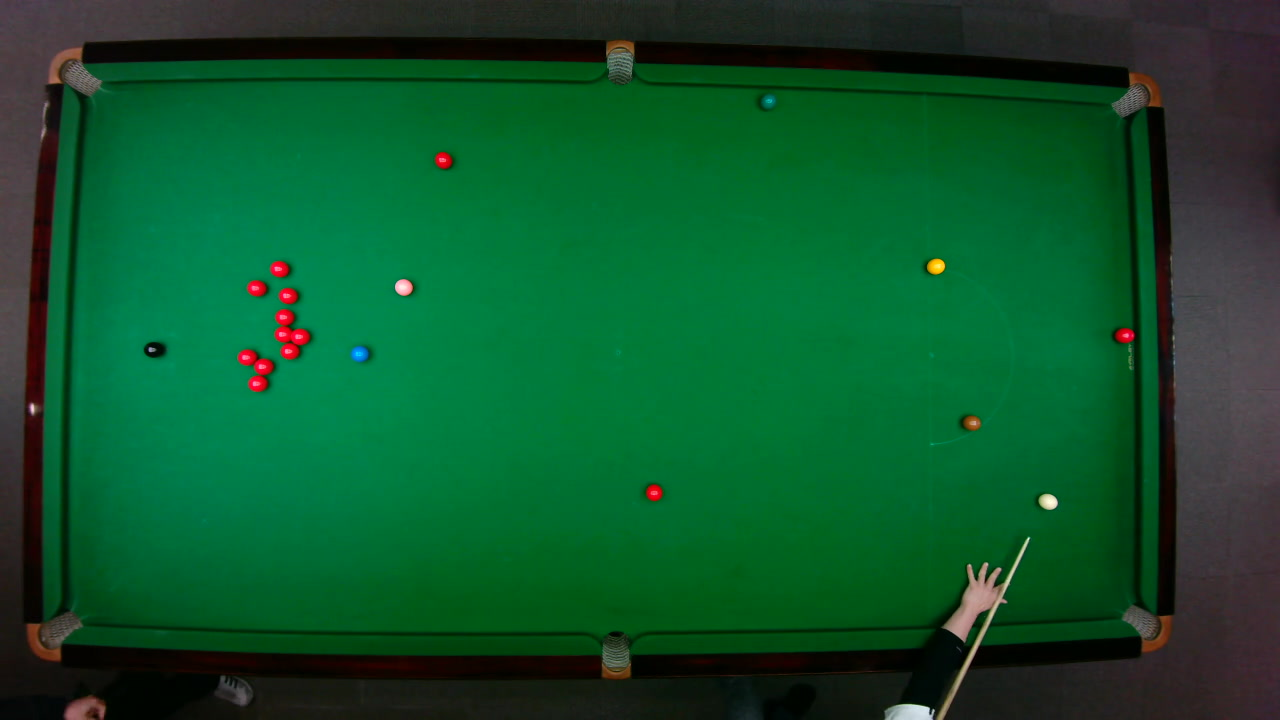bag: (25, 608, 83, 661), (45, 46, 102, 96), (1118, 603, 1172, 652), (1108, 71, 1161, 118), (601, 629, 629, 680), (605, 38, 633, 85)
black: (142, 340, 164, 357)
blue: (349, 344, 370, 362)
brown: (961, 414, 981, 431)
cue: (934, 536, 1031, 719)
green: (759, 93, 776, 110)
pink: (392, 277, 413, 296)
red: (286, 326, 311, 345), (235, 347, 258, 366), (252, 356, 274, 375), (276, 286, 299, 304), (244, 278, 267, 296), (268, 259, 290, 277), (246, 374, 268, 392), (273, 307, 294, 325), (1113, 326, 1135, 343), (644, 482, 663, 501), (433, 150, 452, 169), (279, 342, 300, 359), (272, 325, 293, 342)
white: (1036, 492, 1058, 509)
yellow: (925, 256, 945, 274)
zone: (927, 265, 1014, 444)
